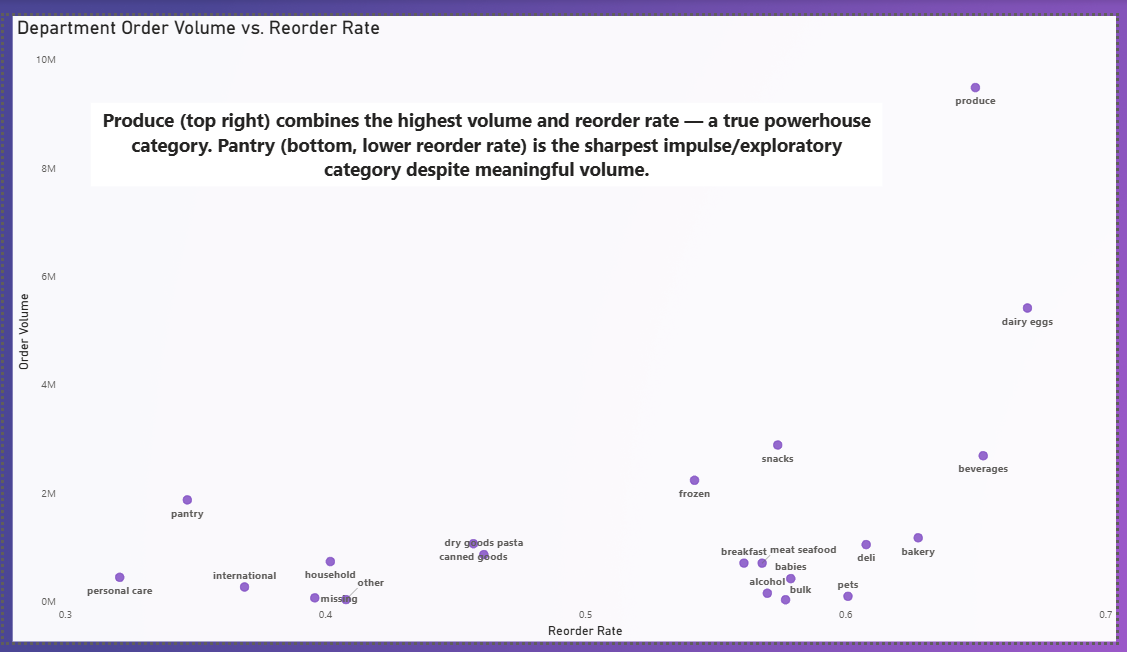

What the dashboard file says about the page in this screenshot:
{"tool":"powerbi","page":{"name":"Question 4- Department Categories","canvas":[1280,720],"ordinal":4},"visuals":[{"type":"scatterChart","title":"Department Order Volume vs. Reorder Rate","fields":{"Category":["q4_department_reorder.department"],"X":["Avg(q4_department_reorder.reorder_rate)"],"Y":["Avg(q4_department_reorder.total_order_items)"]},"box":[9.3,0,1270.7,720.1],"z":0},{"type":"textbox","box":[100,100,911.1,96.3],"z":1000}]}

Visuals, with their boxes in screenshot pixels (x1, y1, x2, y2), scaled from the page's 1280x720 canvas onto the 1127x652 screenshot:
"Department Order Volume vs. Reorder Rate" scatterChart: l=8, t=0, r=1126, b=651
textbox: l=88, t=91, r=890, b=178
